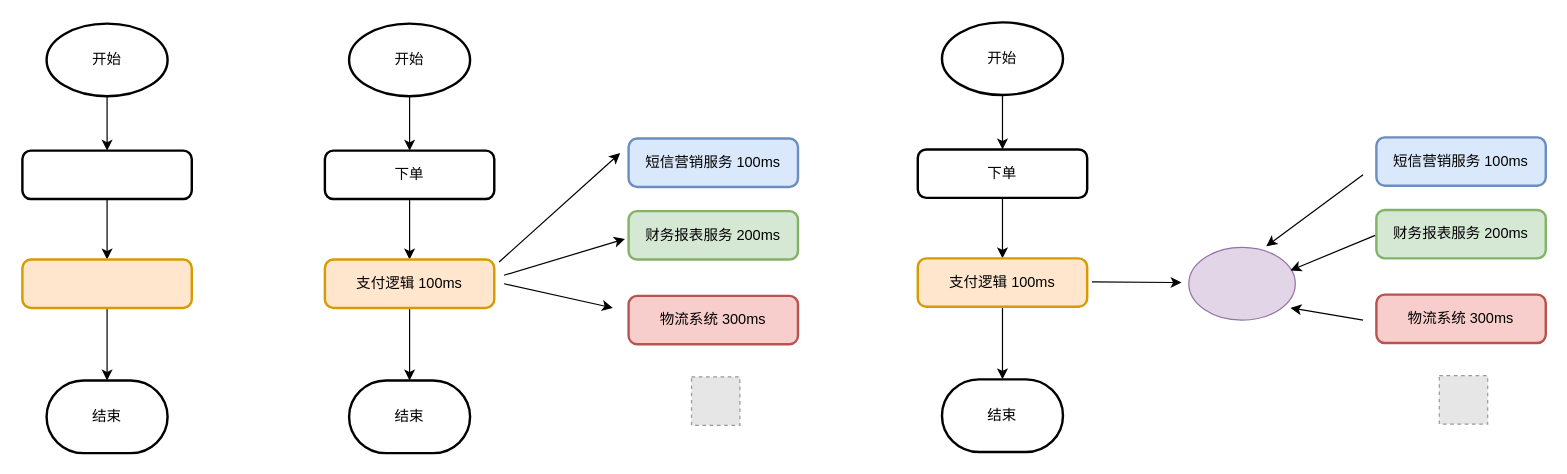
Some shapes in this 1567 by 474 pixel diagram are drawn without their labels. Grey dashed boxes stand in for pictures. Each missing label, with the box of its shape:
MQ: (1188, 246, 1295, 320)
下单(订单服务): (21, 149, 192, 200)
支付逻辑(支付服务): (21, 258, 192, 309)
